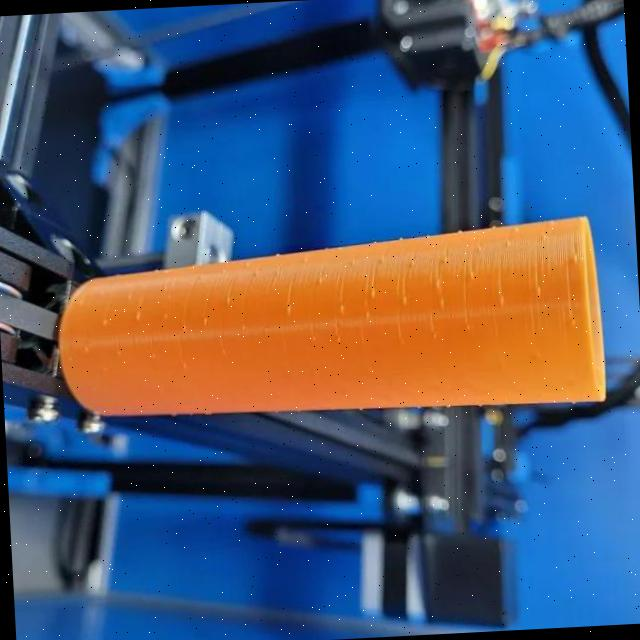blobs: (532, 284, 544, 302), (401, 292, 412, 308), (100, 312, 111, 328), (497, 293, 509, 306), (428, 327, 440, 340), (467, 268, 478, 282), (337, 300, 347, 315), (158, 307, 170, 319), (200, 316, 212, 328), (286, 302, 296, 316), (367, 285, 377, 298), (439, 296, 448, 310), (570, 250, 579, 264), (503, 238, 513, 250), (134, 308, 144, 320), (222, 294, 232, 306), (116, 344, 124, 358), (408, 256, 418, 267), (149, 350, 158, 362), (316, 276, 326, 286), (362, 310, 372, 320), (440, 253, 449, 264), (570, 314, 578, 326), (378, 256, 387, 266), (433, 278, 441, 289), (463, 322, 472, 331), (334, 334, 343, 343), (82, 344, 91, 353), (126, 294, 135, 303), (180, 360, 188, 370), (540, 234, 548, 243), (181, 322, 188, 332)
